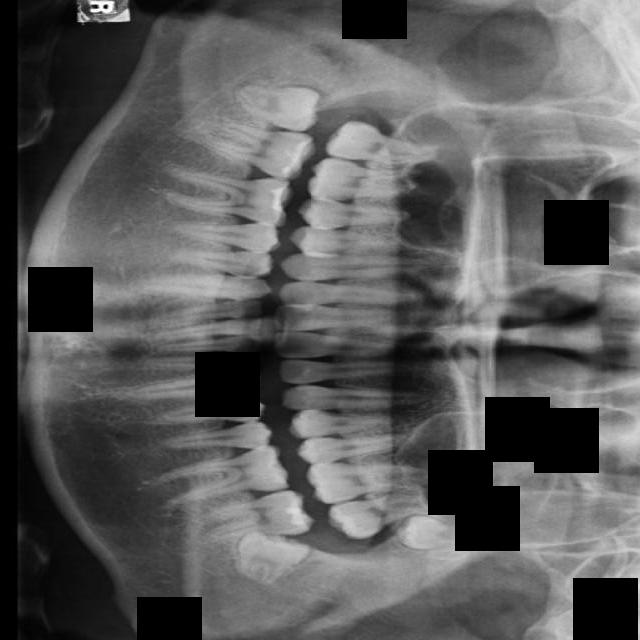52: (258, 484, 317, 542), (241, 172, 296, 231)
73: (38, 608, 46, 616)
BioHorizons Implant: (323, 486, 430, 545)
BioLife Implant: (394, 513, 460, 553)
Biomet 3i Implant: (230, 523, 312, 591)
Blue Sky Bio Implant: (190, 487, 317, 544)
Caries: (322, 117, 438, 171)
Implant: (199, 94, 321, 189)
Keystone Dental Implant: (229, 78, 321, 134)
